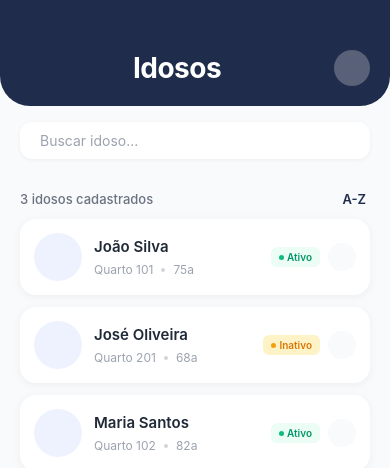
ElderlyListScreen - Dashboard Tests › Busca de residentes › deve mostrar mensagem quando nenhum resultado é encontrado
Check: the text "João Silva" is shown, box [94,237,168,256]
Type "Nome Inexistente" into the field with placeholder "Buscar idoso..." at coordinates (199, 140), box [40,132,358,149]
Wait 350 ms
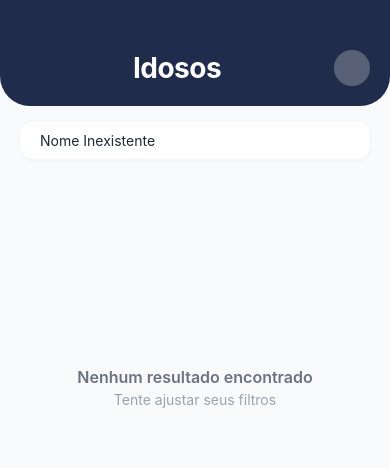
Check: the text "Nenhum resultado encontrado" is shown, box [77,367,313,387]
